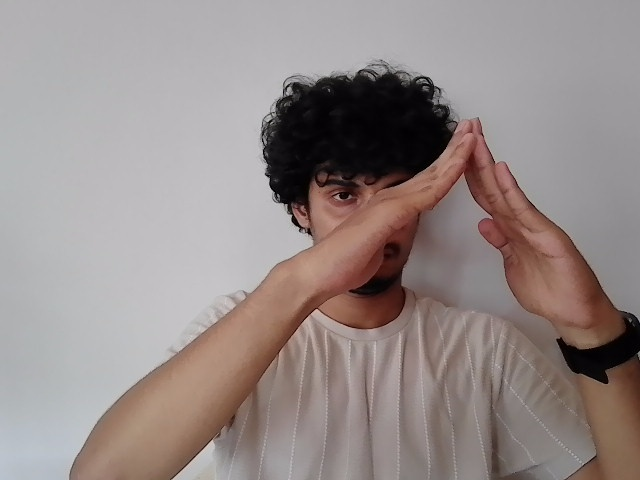home: (317, 117, 620, 321)
